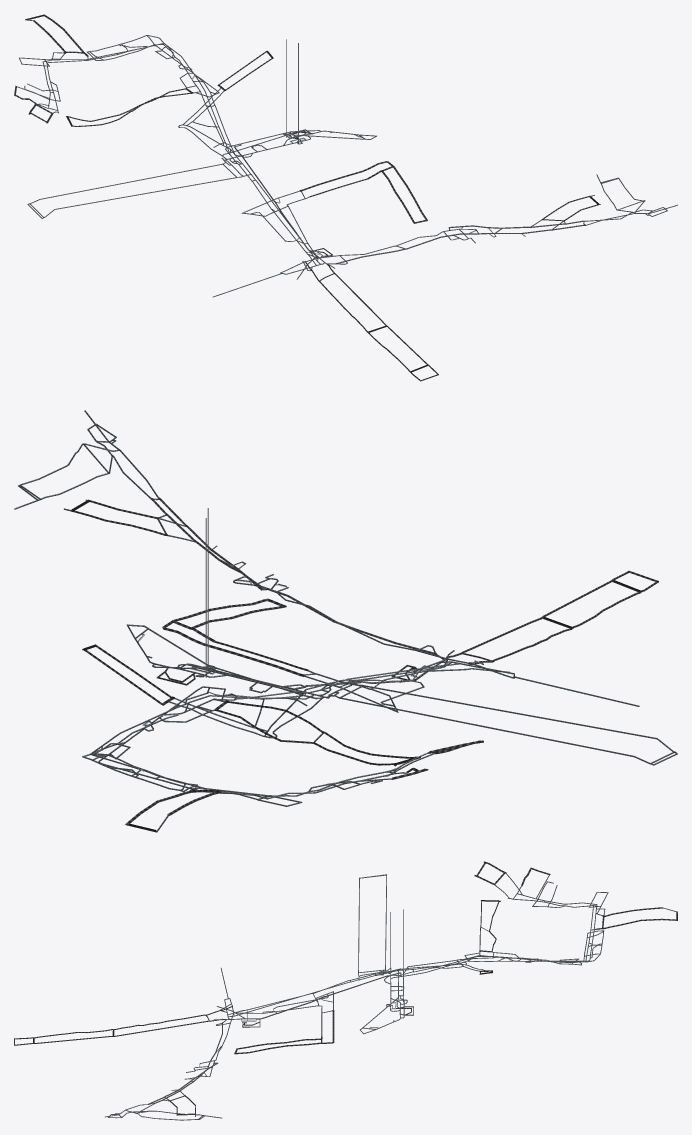
File: JKYHMK.glb
3 views of the same model, one above another, from view 1: azimuth 30°, elevation 25°; view 2: azimuth 150°, elevation 25°; view 3: azimuth 270°, elevation 25° (orthographic). The views are drawn at different scales.
Parts seen in each view (by area): view 1: no part large enough to name; view 2: ms252, ms254, ms239; view 3: no part large enough to name.
Part boxes in pixels (box(x1,y1,x2,y2)): ms252: box(340, 697, 650, 763); ms254: box(364, 685, 673, 751); ms239: box(173, 598, 286, 628).
Size of the model in its own units: 2794 by 922 by 3406.
Materials: 597 (597 with a texture image).
